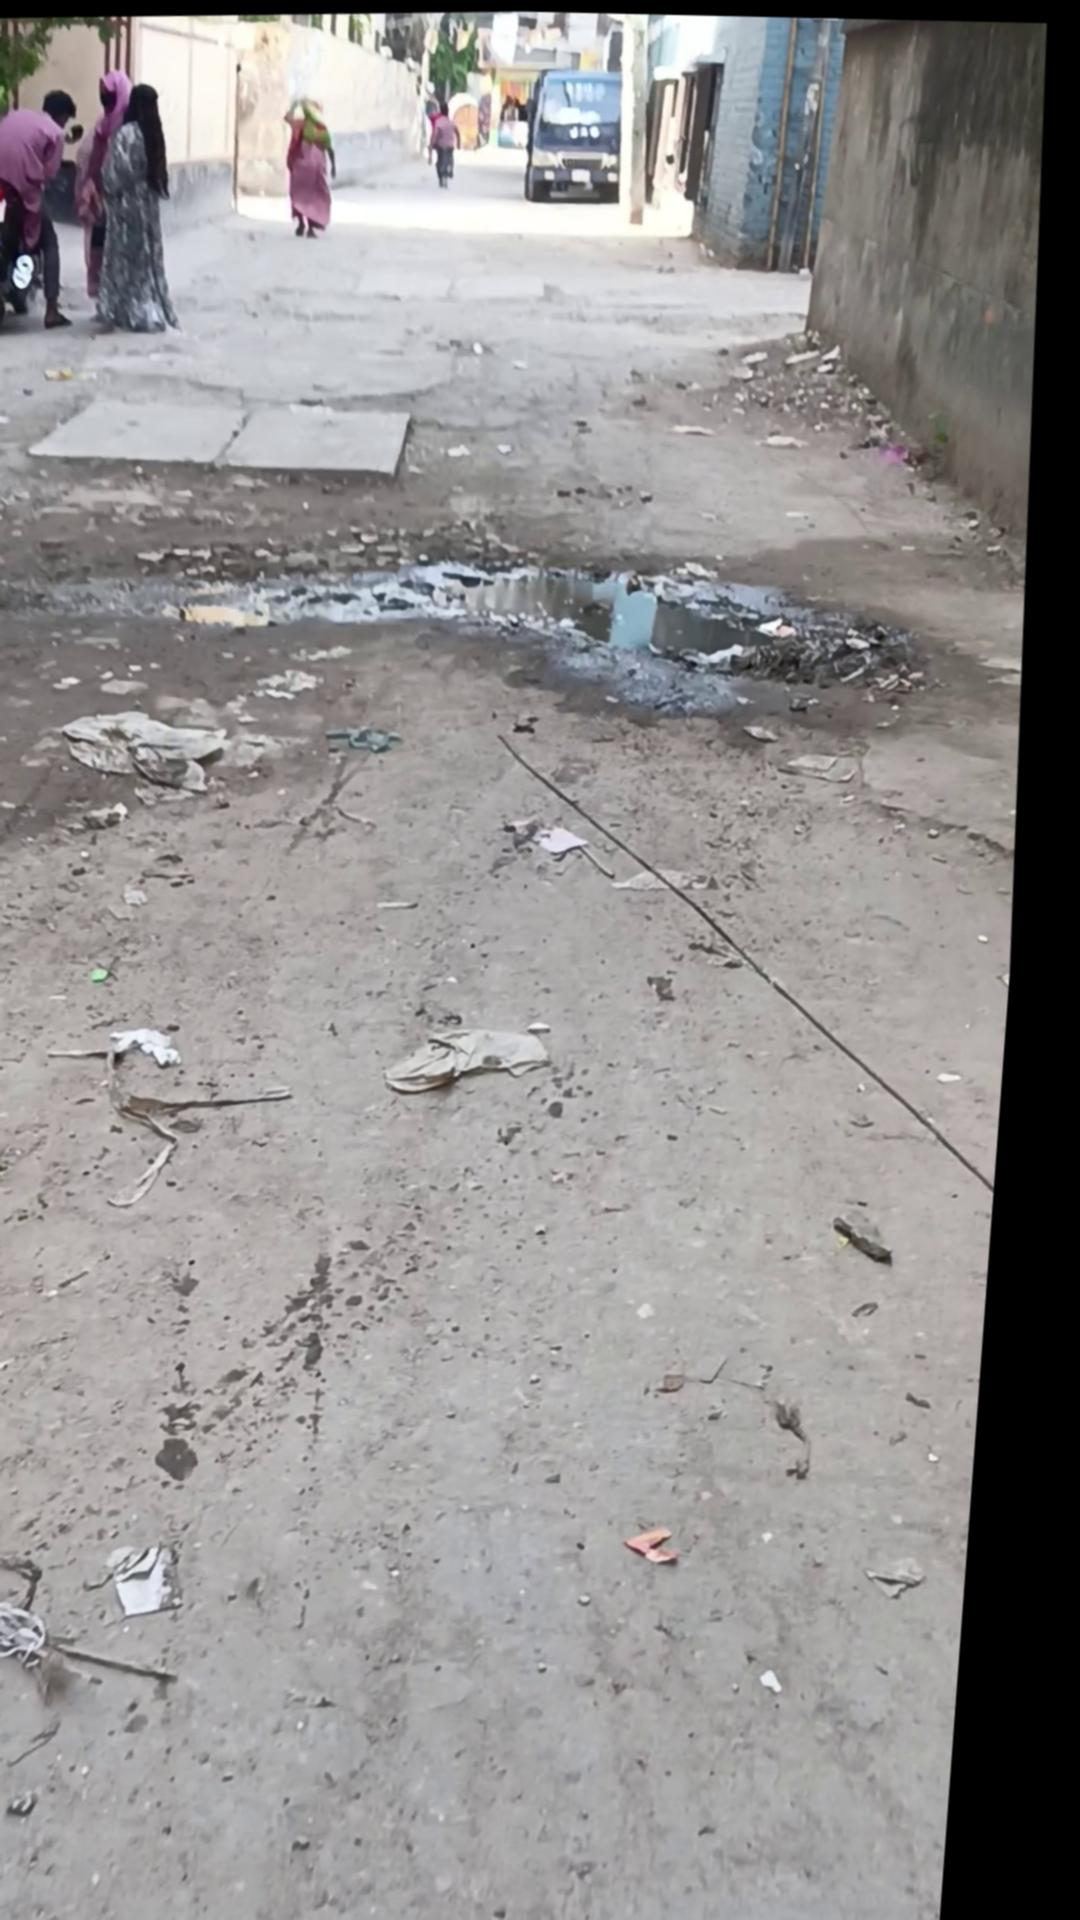Broken-road: (0, 152, 1071, 1920)
Car: (521, 63, 629, 203)
Crosswalk: (29, 380, 423, 491), (219, 397, 422, 481)
Light-pole: (0, 157, 61, 338)
Muddy road: (87, 78, 199, 335), (0, 86, 92, 332), (63, 69, 142, 306), (276, 94, 344, 237), (423, 98, 467, 186)
Railroad-crossing: (0, 429, 1022, 793)
